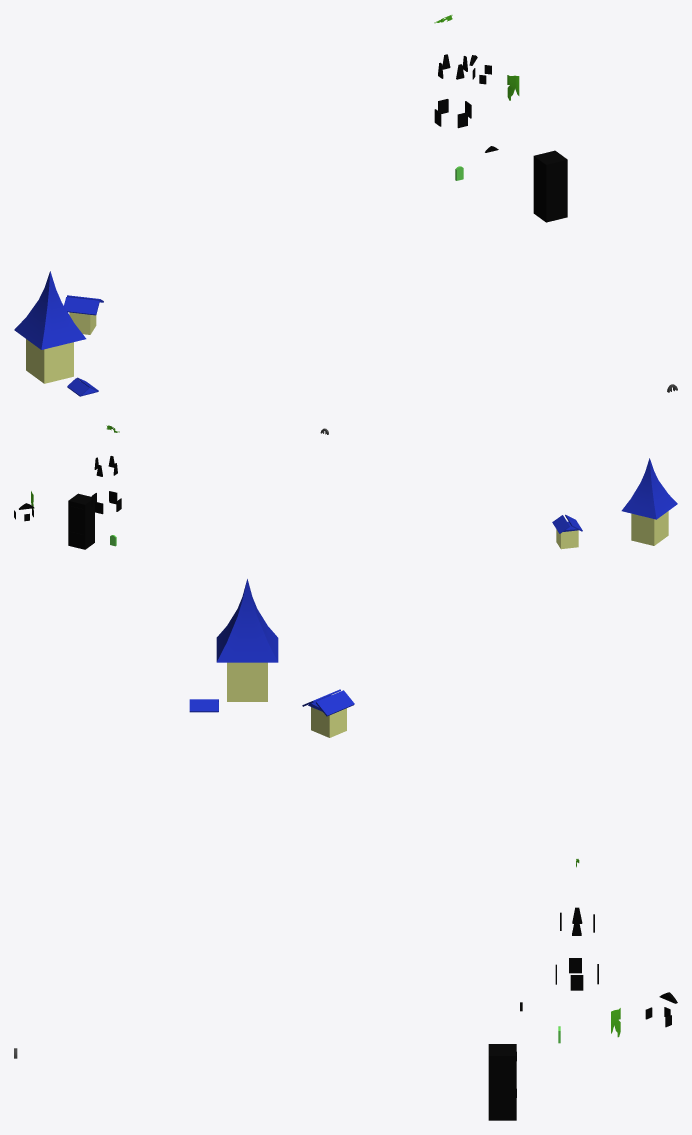
Rendered from Misc.fbx.
The picture shows the model from 3 angles, top to bottom: view 1: azimuth 30°, elevation 25°; view 2: azimuth 150°, elevation 25°; view 3: azimuth 270°, elevation 25°; orthographic projection. The views are drawn at different scales.
Parts seen in each view (by area): view 1: misc; view 2: misc; view 3: misc.
Boxes of the visible parts, <box> form: misc: <box>14,15,677,396</box>; misc: <box>14,425,677,549</box>; misc: <box>14,579,677,1120</box>.
Bounding box in the file's own units: 9915 × 2795 × 7764.
